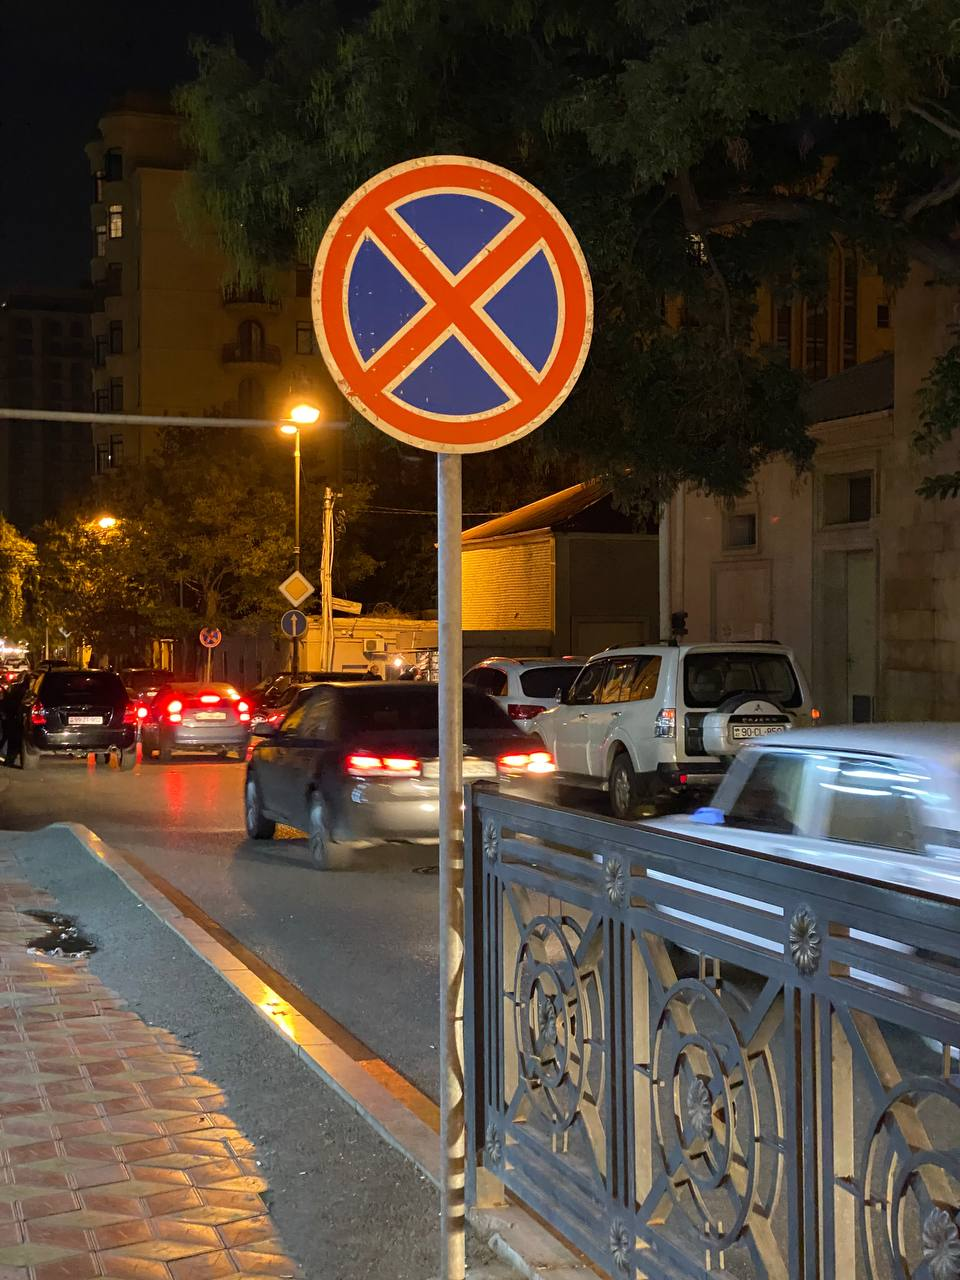No Parking: (309, 155, 595, 453)
